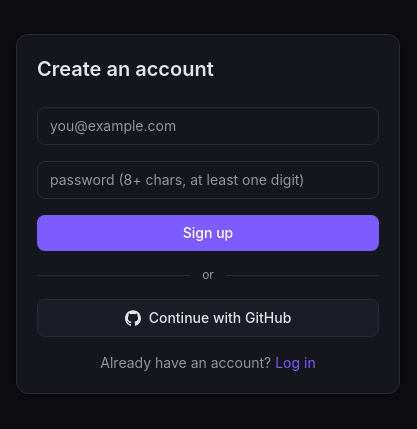
Test case: RegisterPage › applies the suggestion and clears the message when the suggestion button is clicked
Type "user@gmial.com" into the field with placeholder "you@example.com".
click(208, 126); type("user@gmial.com")  # box [37,107,379,145]
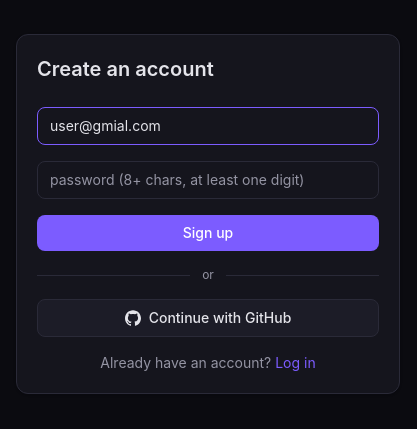
Press Tab
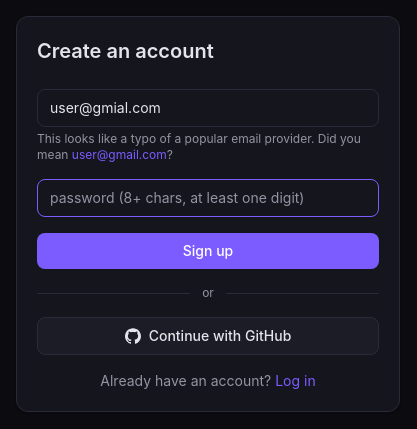
Expected: the button "user@gmail.com" is shown
Click the button "user@gmail.com".
click(119, 155)  # box [72,147,167,163]
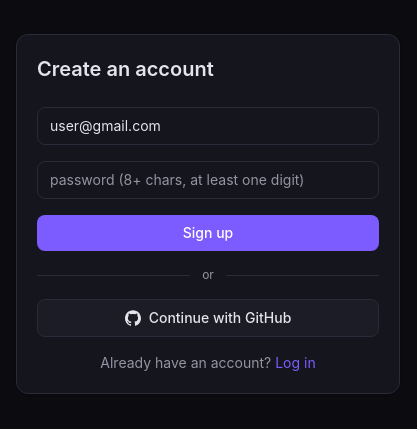
Expected: the field with placeholder "you@example.com" holds "user@gmail.com", [37,107,379,145]
Expected: the text "This looks like a typo of a popular email provider" is gone
